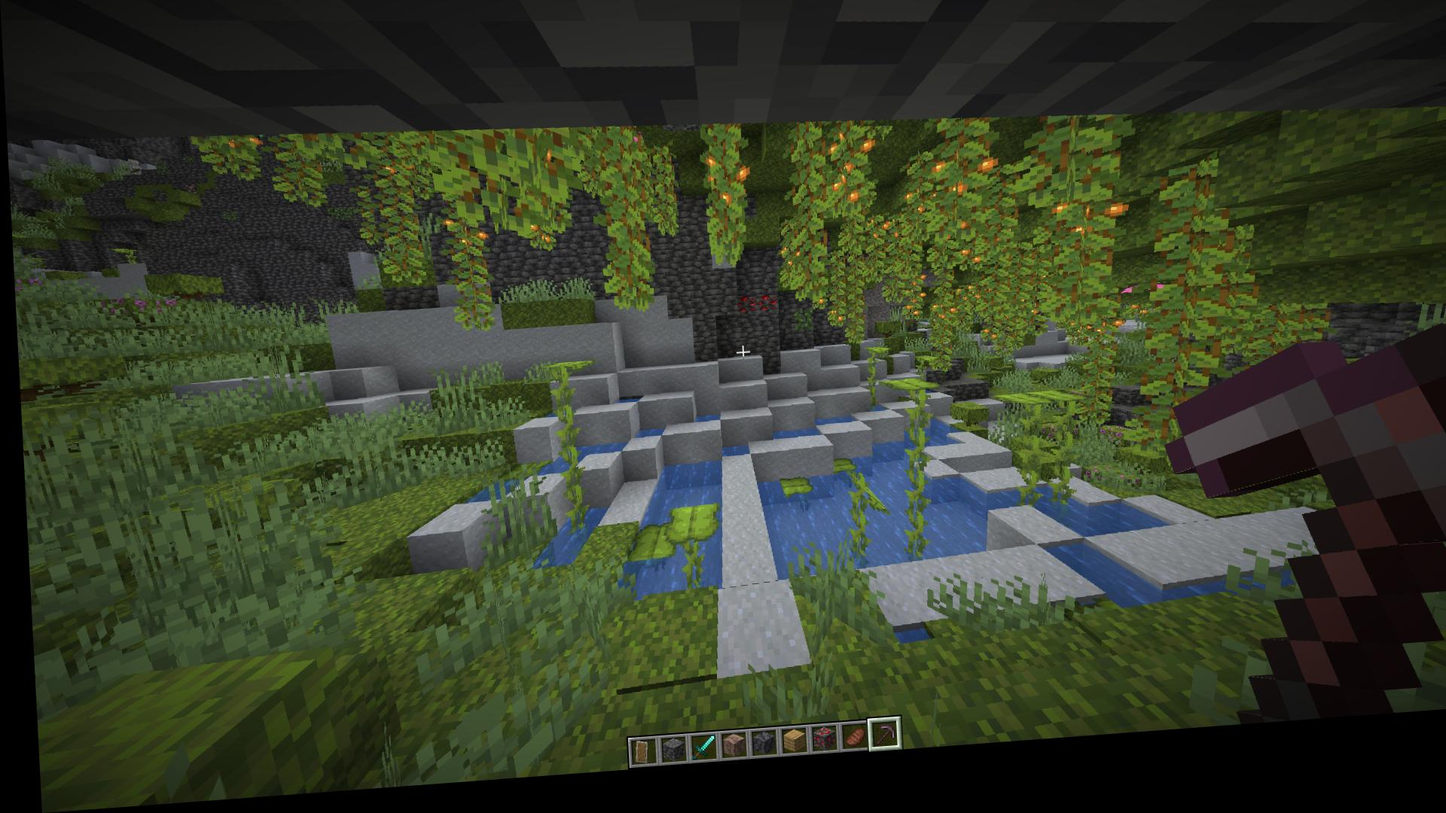iron ore: (180, 183, 198, 198)
redstone ore: (752, 304, 774, 327), (732, 306, 754, 327)
